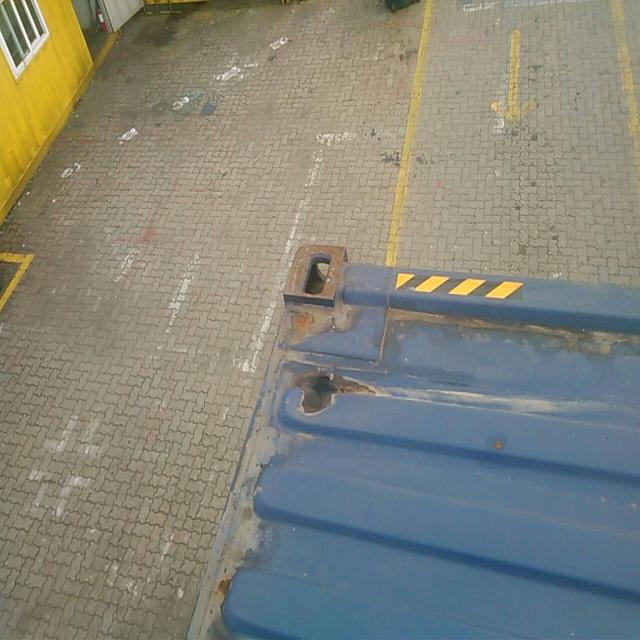rust: (277, 244, 351, 348), (288, 363, 381, 420), (215, 569, 240, 602)
